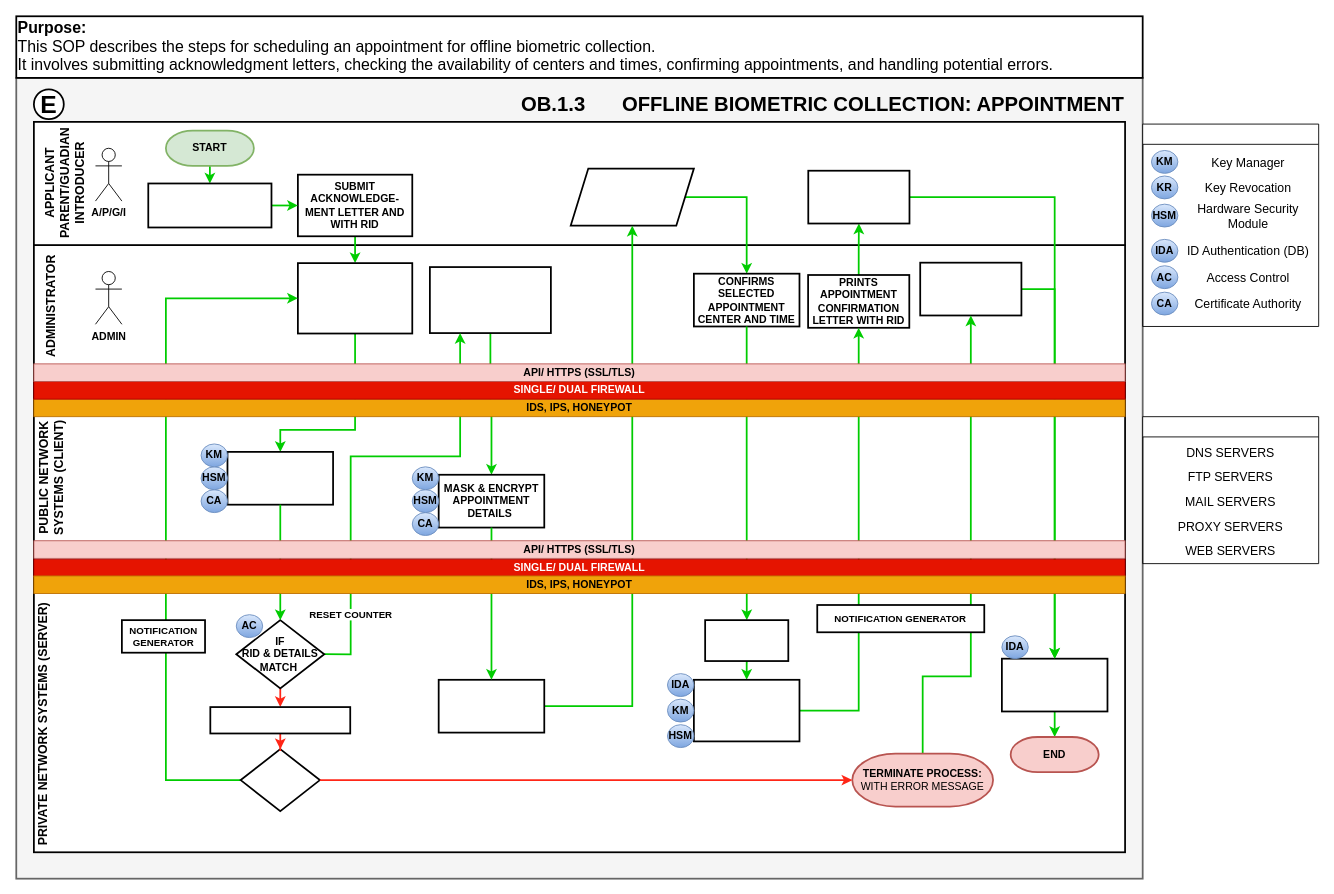
Some shapes in this 1334 by 894 pixel diagram are drawn without their labels. The box of each missing label's shape, as (x1, y1, x2, y2) in pixels:
APPROACH THE BOOKING COUNTER ATTENDANT: (147, 182, 272, 228)
CHECKS AVAILABILITY OF CENTER AND TIME FOR BIOMETRIC COLLECTION APPOINTMENT: (429, 266, 551, 334)
EXCEPTION AND ERROR HANDLING (COUNTER): (209, 706, 351, 734)
IF RETRY COUNT <=3: (239, 748, 320, 812)
LEGEND: (1142, 123, 1319, 326)
LOGS THE PROCESS AND STATUS: (1001, 657, 1108, 712)
MASK & ENCRYPT APPLICATION DETAILS: (226, 451, 334, 505)
NOTIFIES AVAILABLE APPOINTMENTS: (437, 678, 545, 733)
PRINTS APPOINTMENT FAILURE LETTER WITH ERROR: (919, 261, 1022, 316)
PUBLIC NETWORK: (1142, 416, 1319, 564)
RECEIVES ACKNOWLEDGEMENT LETTER WITH RID FOR APPOINTMENT BOOKING: (297, 262, 413, 334)
RECEIVES APPOINTMENT CONFIRMATION LETTER: (807, 169, 910, 224)
SELECTS DESIRED APPOINTMENT CENTER TIME: (569, 167, 694, 226)
STORE APPOINTMENT DETAILS IN RID ACCOUNT: (693, 678, 800, 742)
UPDATE APPOINTMENT DETAILS: (704, 619, 789, 661)
